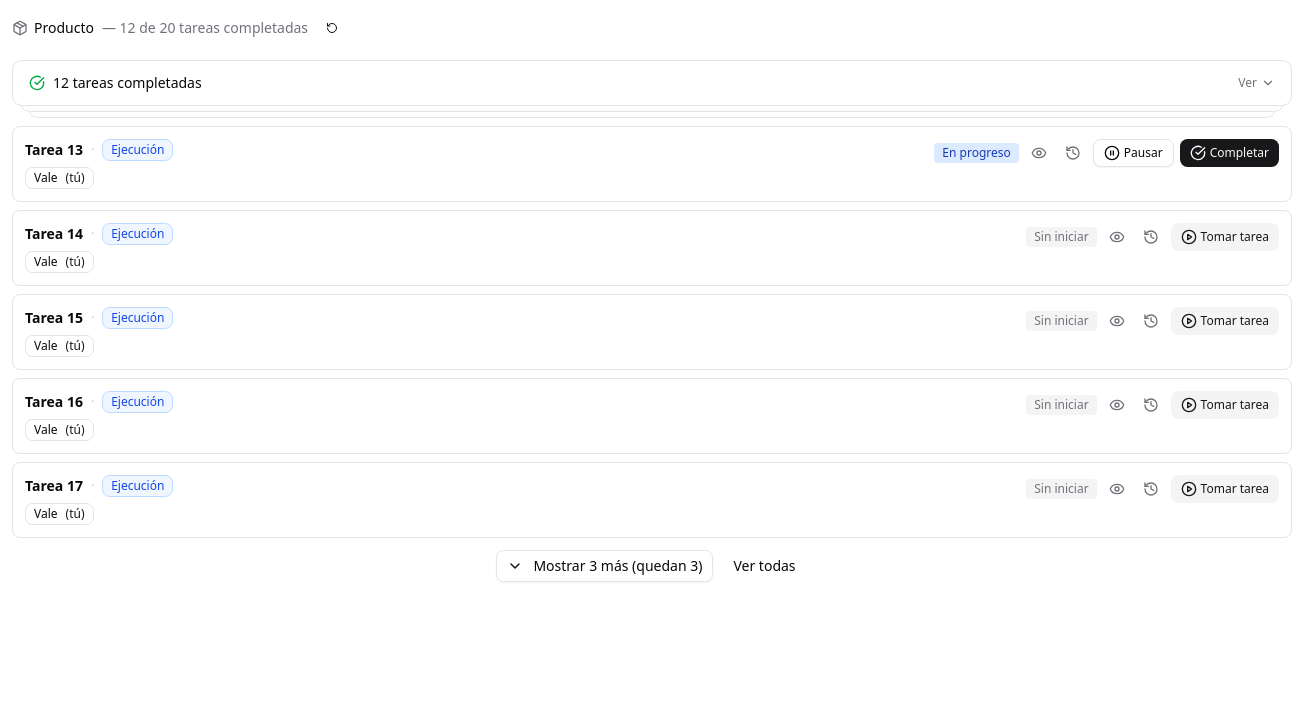
Test case: ProjectTasksTab long lists › stacks completed tasks with a count and loads pending tasks 4 at a time
This screenshot has width=1304, height=728.
Check: the text "12 tareas completadas" is shown, box [29,73,202,93]
Check: the text "Tarea 18" is not shown
Click the button "Mostrar 3 más (quedan 3)" at x=605, y=566, box [496,550,713,582]
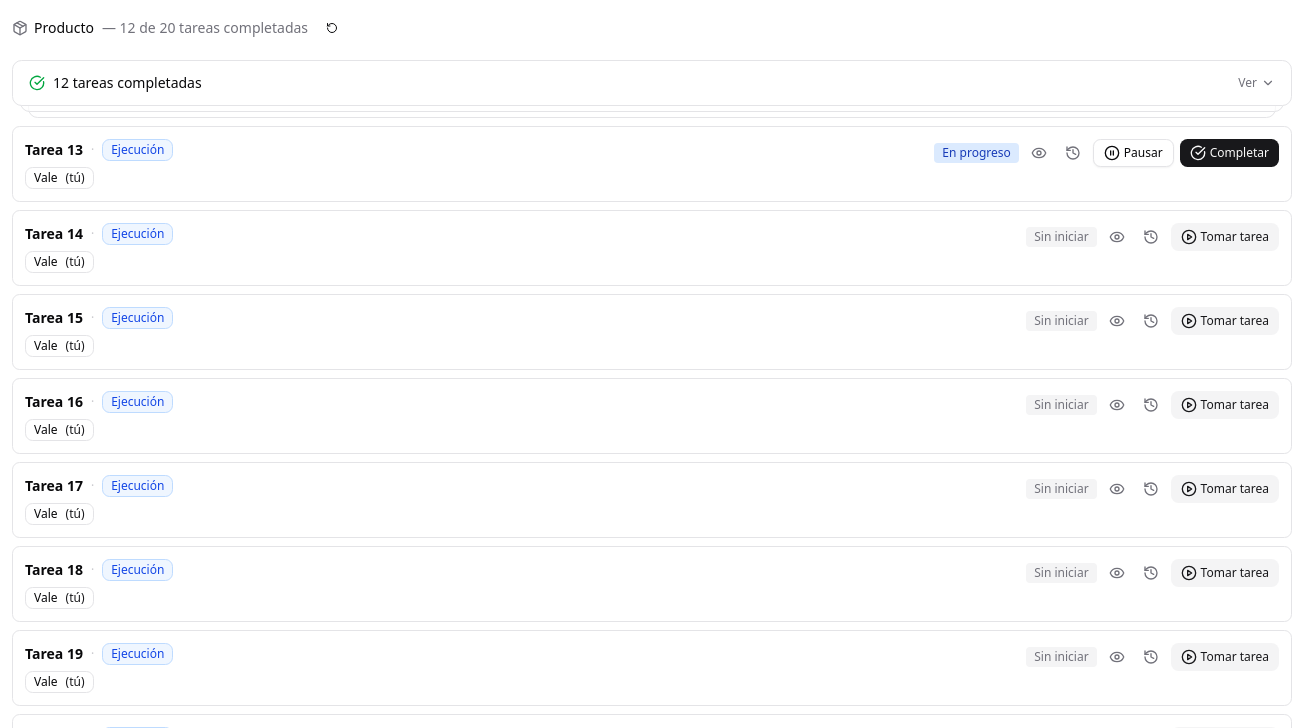
Check: the text "Tarea 18" is shown, box [25,560,83,580]
Click the button "12 tareas completadas Ver" at x=652, y=83, box [12,60,1292,106]
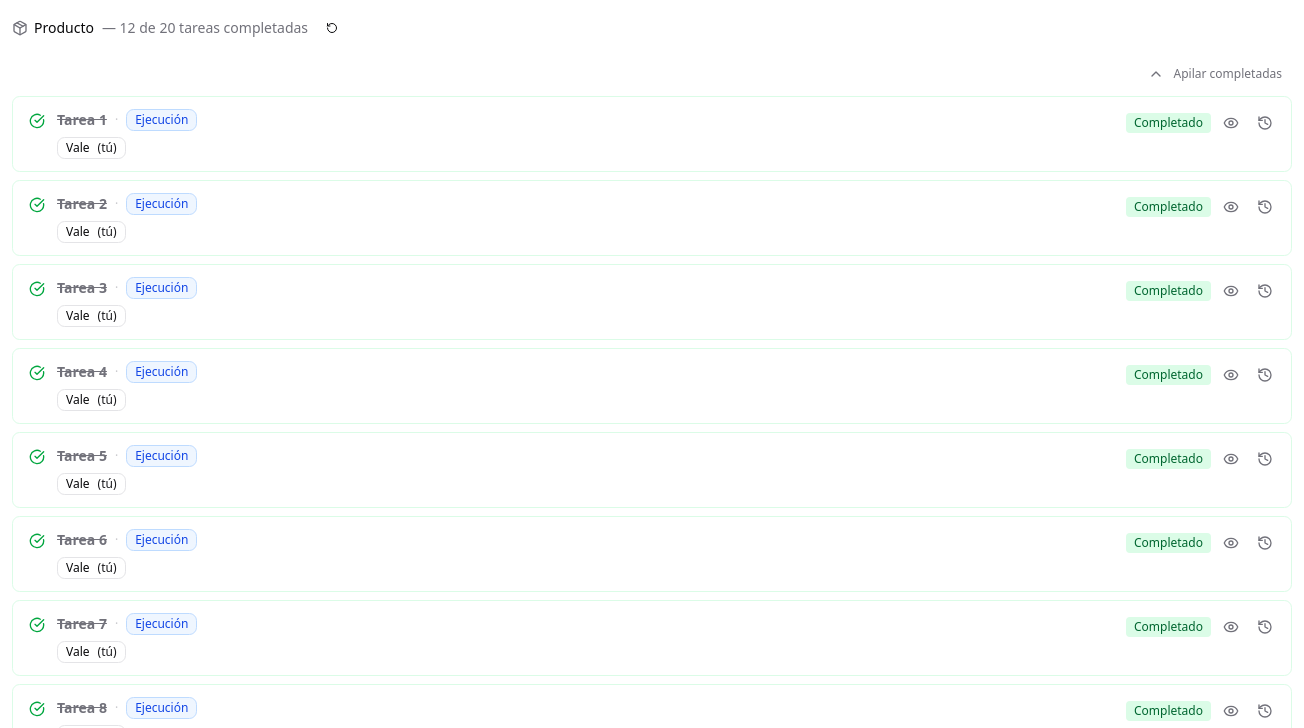
Check: the text "Tarea 1" is shown, box [57,110,107,130]
Check: the button "Apilar completadas" is shown, box [1138,60,1292,88]
